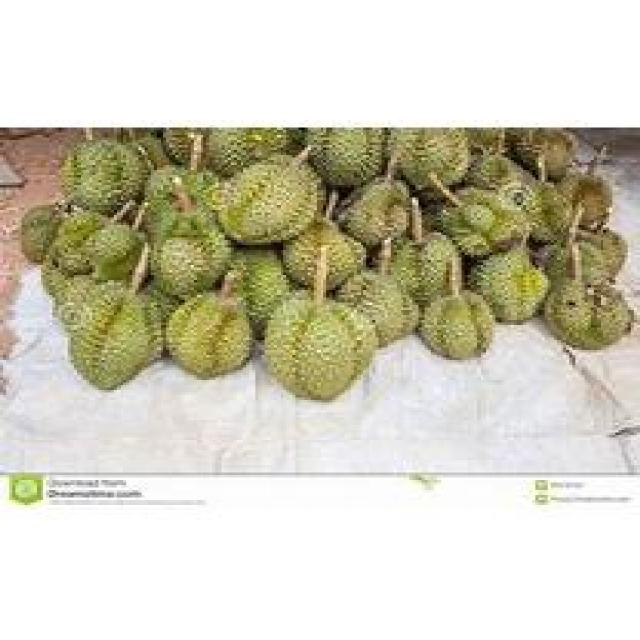fruit: (249, 275, 391, 415), (49, 265, 172, 400), (157, 280, 261, 388), (458, 238, 557, 338)
